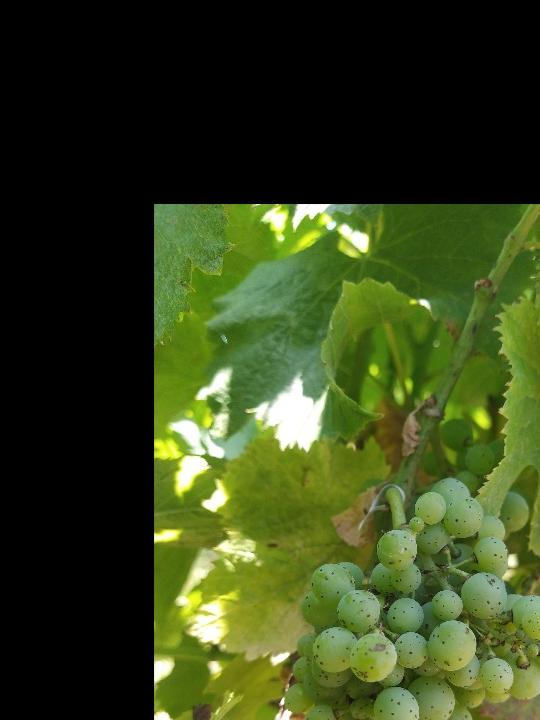grape: (284, 476, 540, 720)
